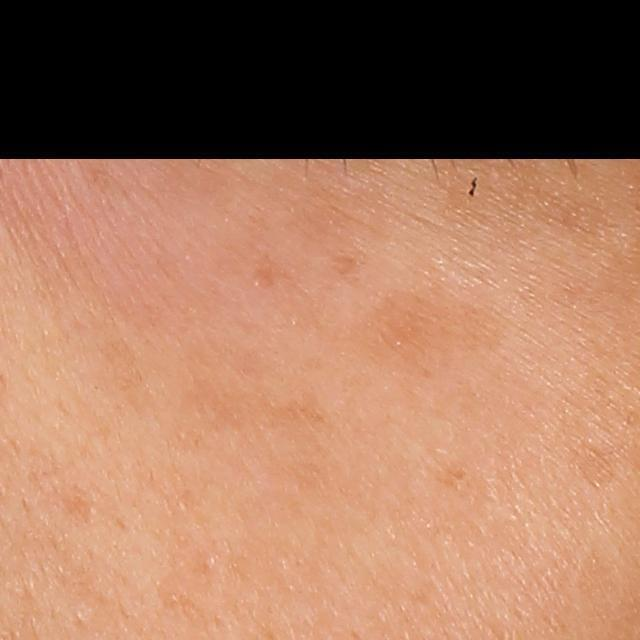melasma: (340, 283, 514, 387), (182, 336, 336, 439), (428, 450, 476, 497), (324, 243, 371, 288)
